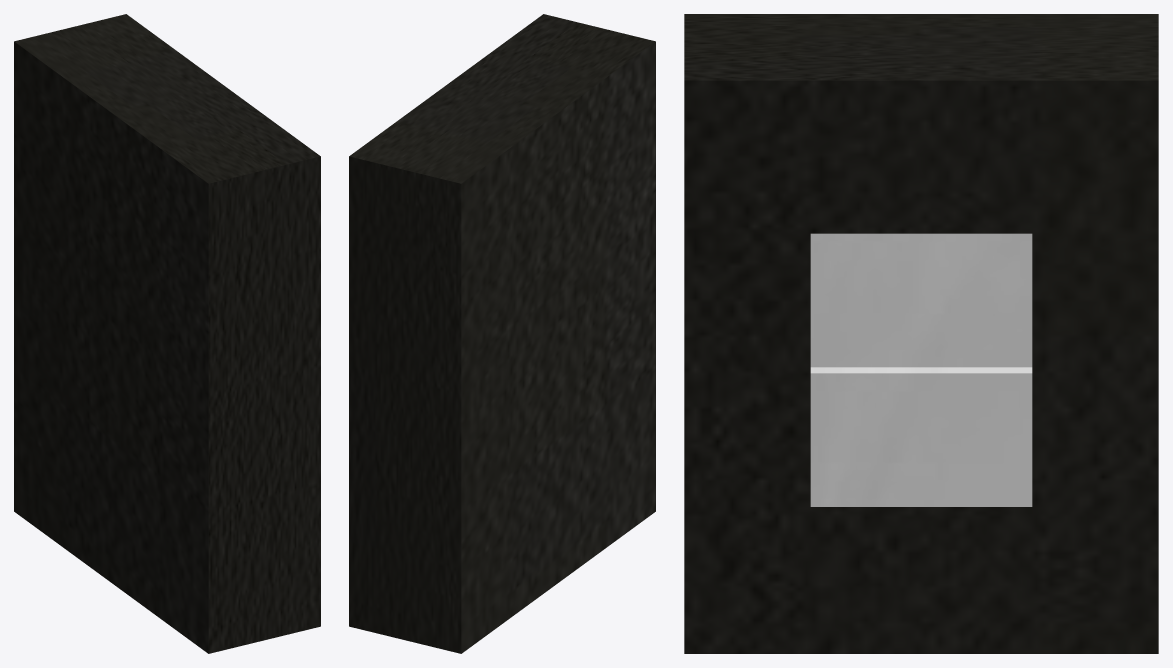
Rendered from Apagador.fbx.
The picture shows the model from 3 angles, left to right: view 1: azimuth 30°, elevation 25°; view 2: azimuth 150°, elevation 25°; view 3: azimuth 270°, elevation 25°; orthographic projection. The views are drawn at different scales.
Visible parts, largest first — view 1: Cube; view 2: Cube; view 3: Cube.
Boxes of the visible parts, x1,y1,x2,y2 form: Cube: (14, 14, 320, 653); Cube: (349, 14, 655, 653); Cube: (684, 14, 1158, 653).
Size of the model in its own units: 21.8 by 80 by 60.
Materials: 2 (2 with a texture image).
